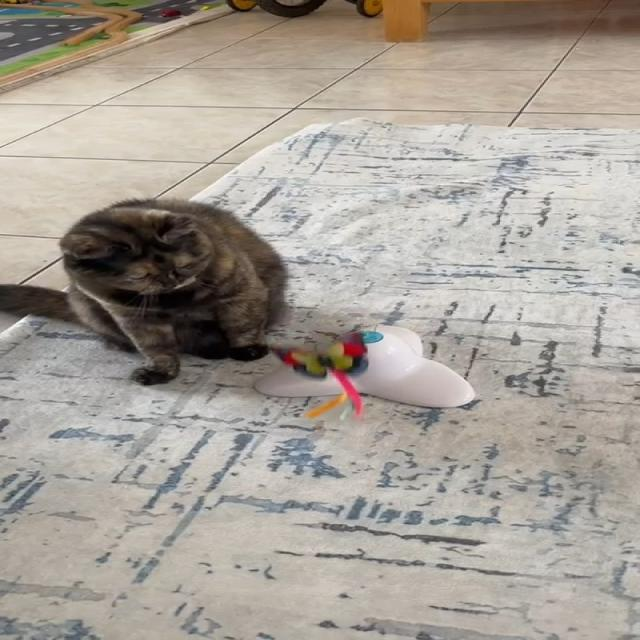authorized: (0, 196, 291, 386)
